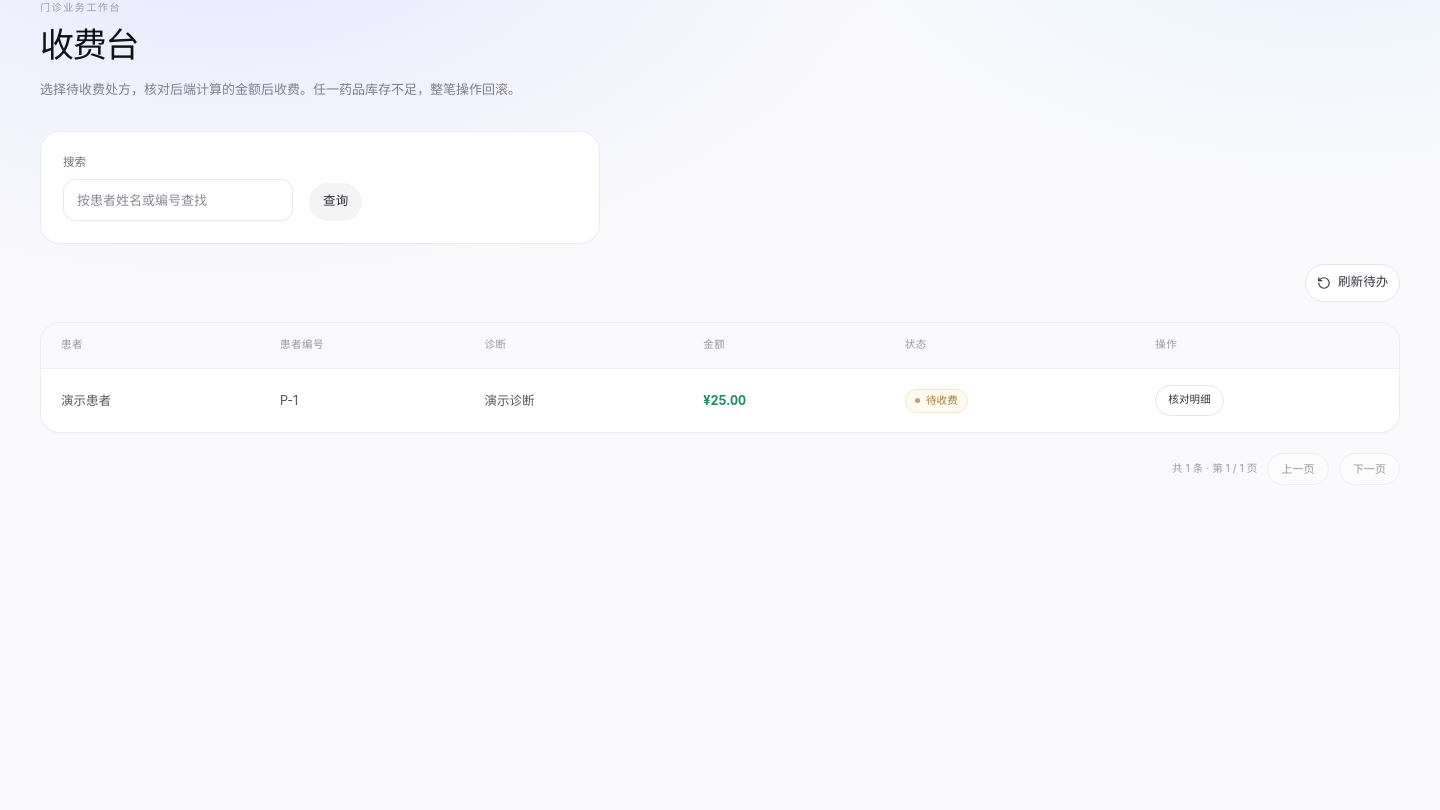
Test case: business work queues › shows the invoice amount before charge and never claims a failed charge succeeded
This screenshot has width=1440, height=810.
What coordinates should you click on to do the following:
click the button "核对明细"
I would click on:
 (1190, 401)
Its box is top-left (1155, 385), bottom-right (1224, 416).
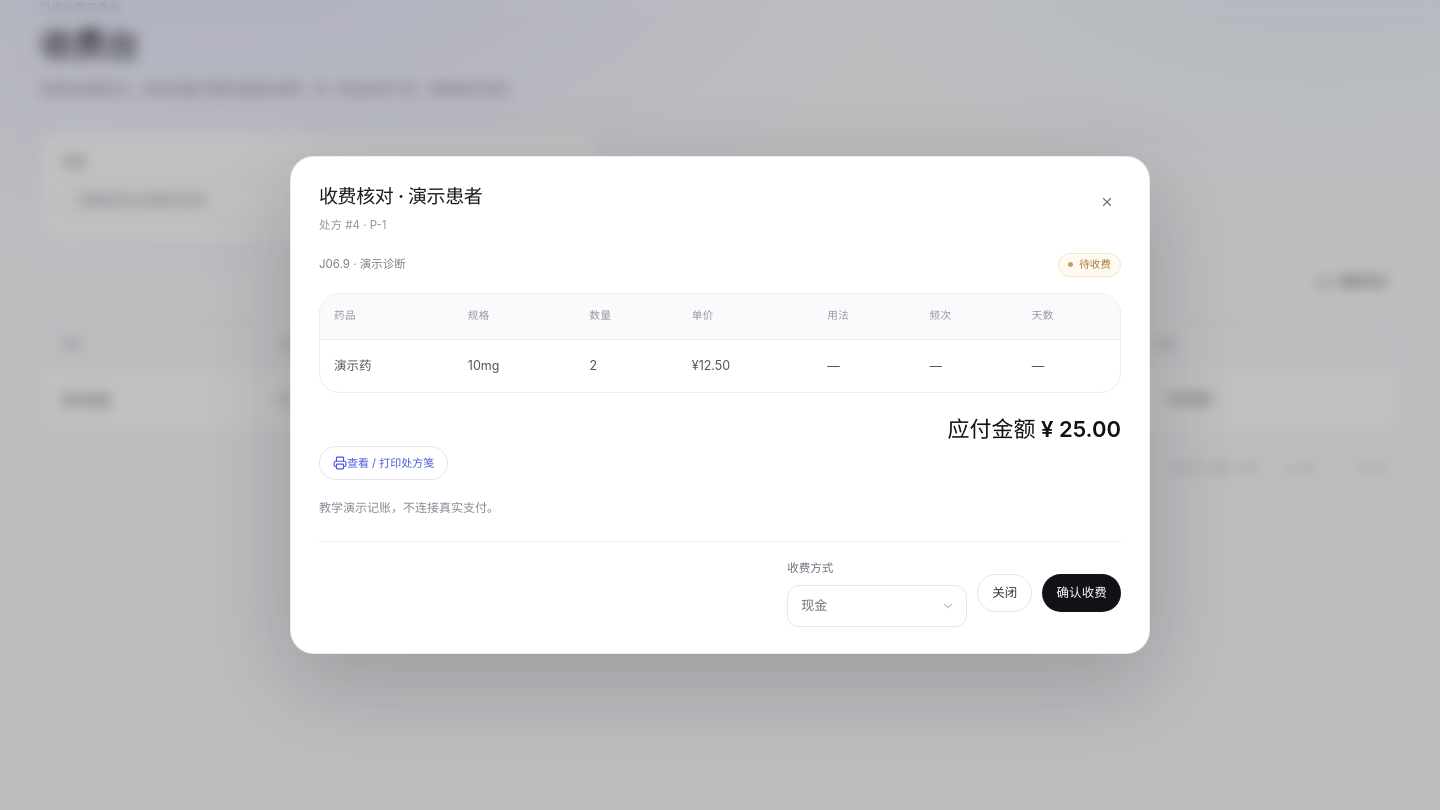
expect the text "应付金额 ¥ 25.00" is shown: met, box top-left (947, 416), bottom-right (1121, 442)
What coordinates should you click on to do the following:
click the button "确认收费"
I would click on:
 (1082, 593)
Its box is top-left (1042, 574), bottom-right (1121, 612).
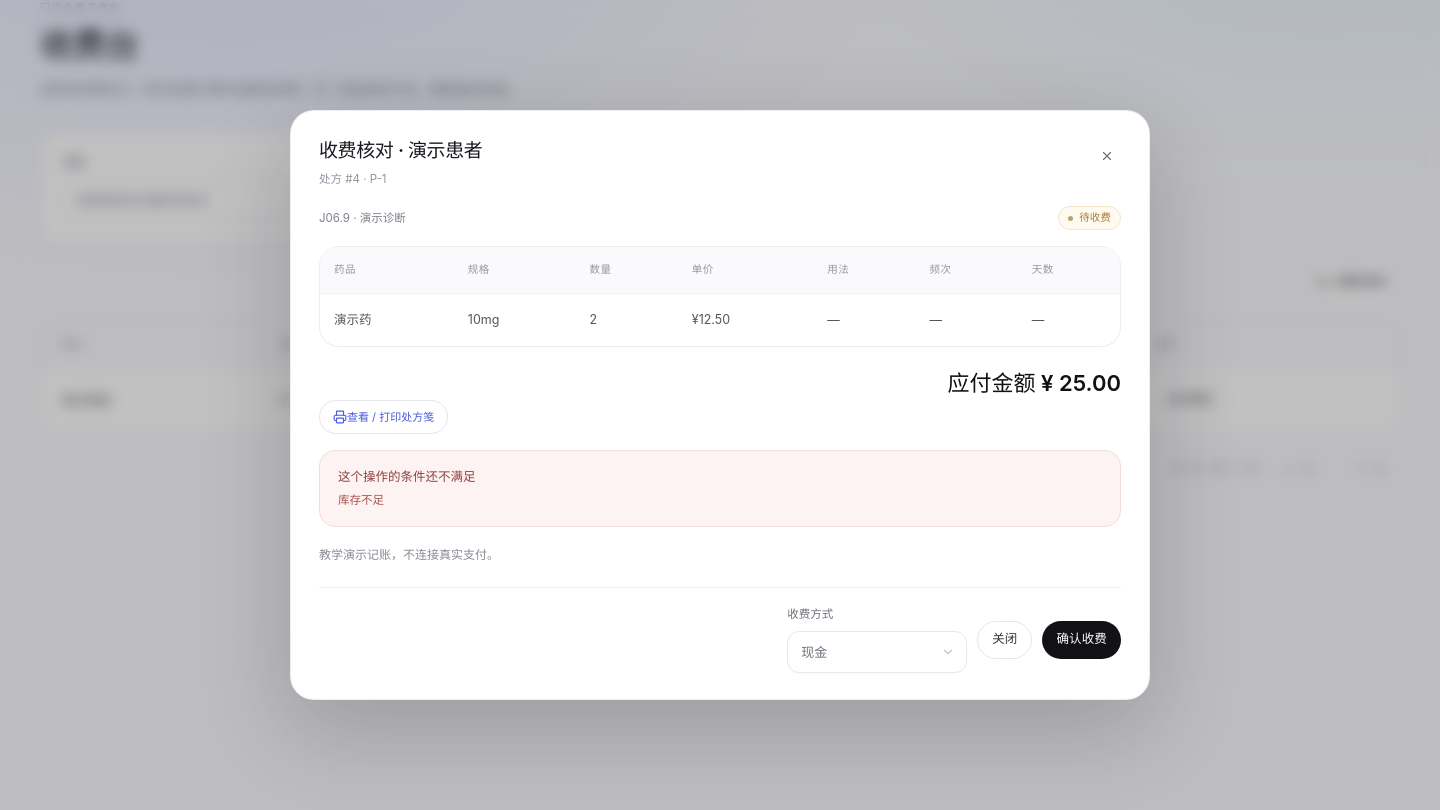
expect the message shows "库存不足": met, box top-left (338, 493), bottom-right (384, 507)
